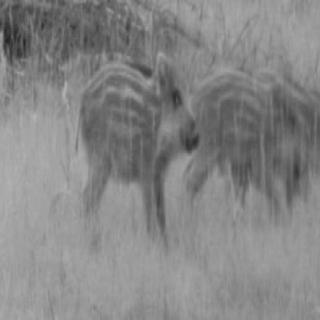Pig: (74, 54, 201, 255)
